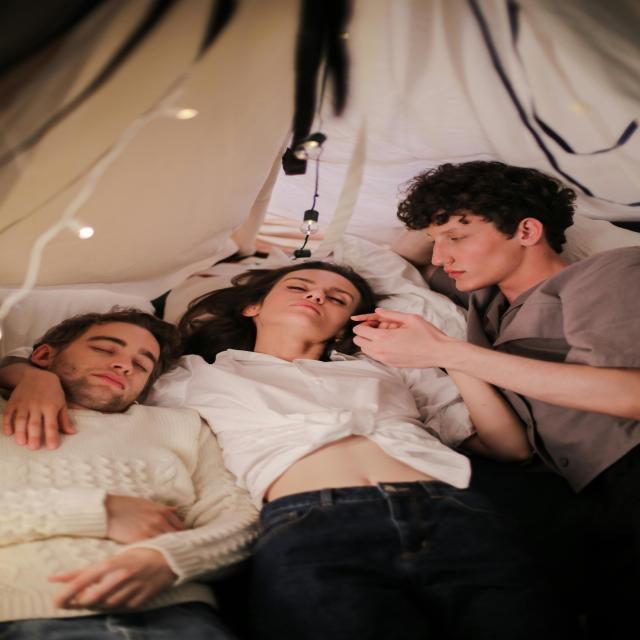lie: (187, 263, 509, 640), (404, 150, 640, 578), (0, 294, 179, 636)
